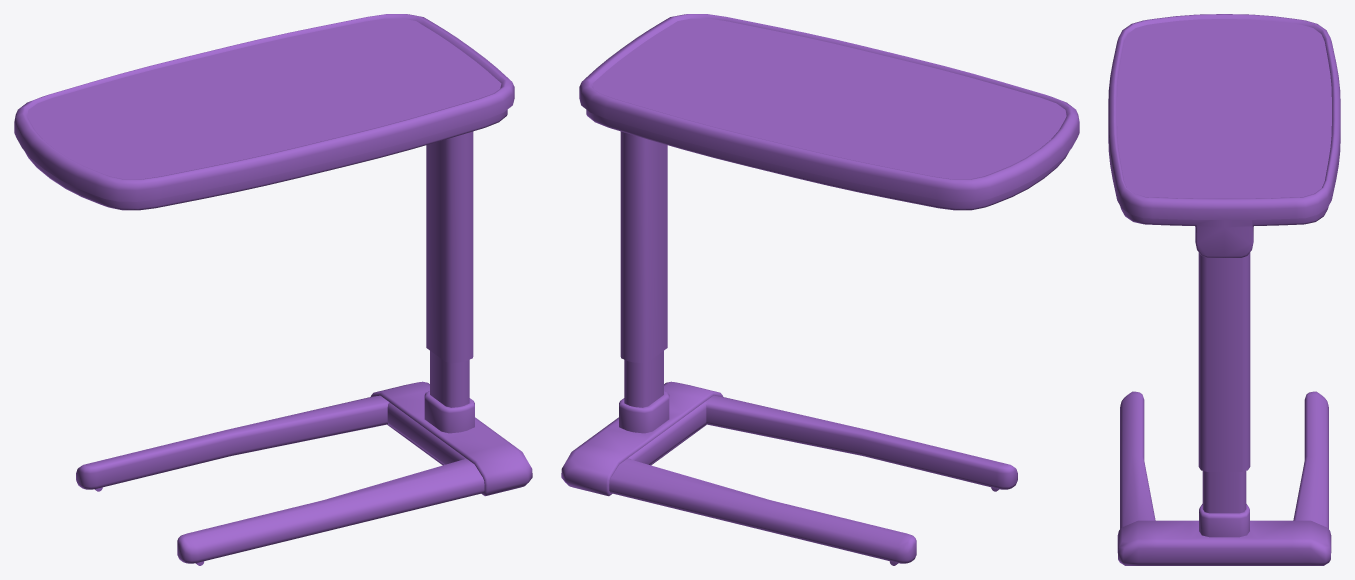
File: Table_2.fbx
The picture shows the model from 3 angles, left to right: view 1: azimuth 30°, elevation 25°; view 2: azimuth 150°, elevation 25°; view 3: azimuth 270°, elevation 25°; orthographic projection. The views are drawn at different scales.
Parts seen in each view (by area): view 1: Table_2_2, Lable_2_1; view 2: Table_2_2, Lable_2_1; view 3: Table_2_2, Lable_2_1.
Part boxes in pixels (x1,y1,x2,y2): Table_2_2: [14, 14, 514, 363]; Lable_2_1: [76, 351, 532, 565]; Table_2_2: [579, 14, 1079, 363]; Lable_2_1: [561, 351, 1017, 565]; Table_2_2: [1108, 14, 1340, 471]; Lable_2_1: [1117, 391, 1331, 565].
Bounding box in the file's own units: 120 × 106 × 60.9.
